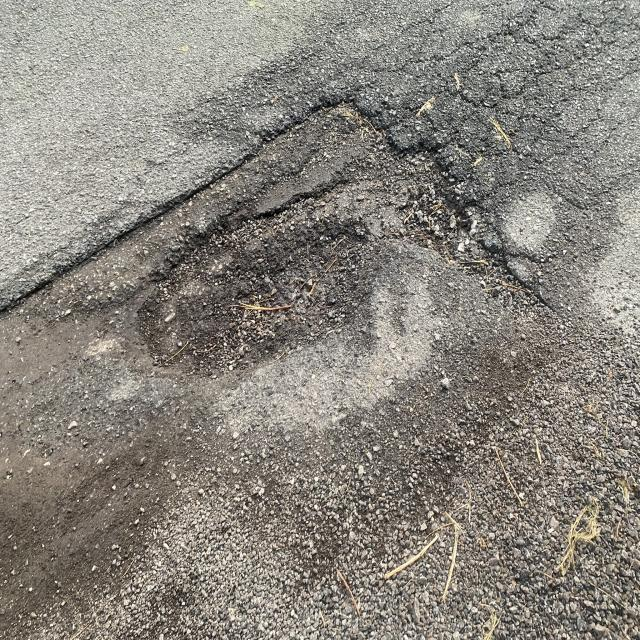pothole: (63, 92, 500, 389)
